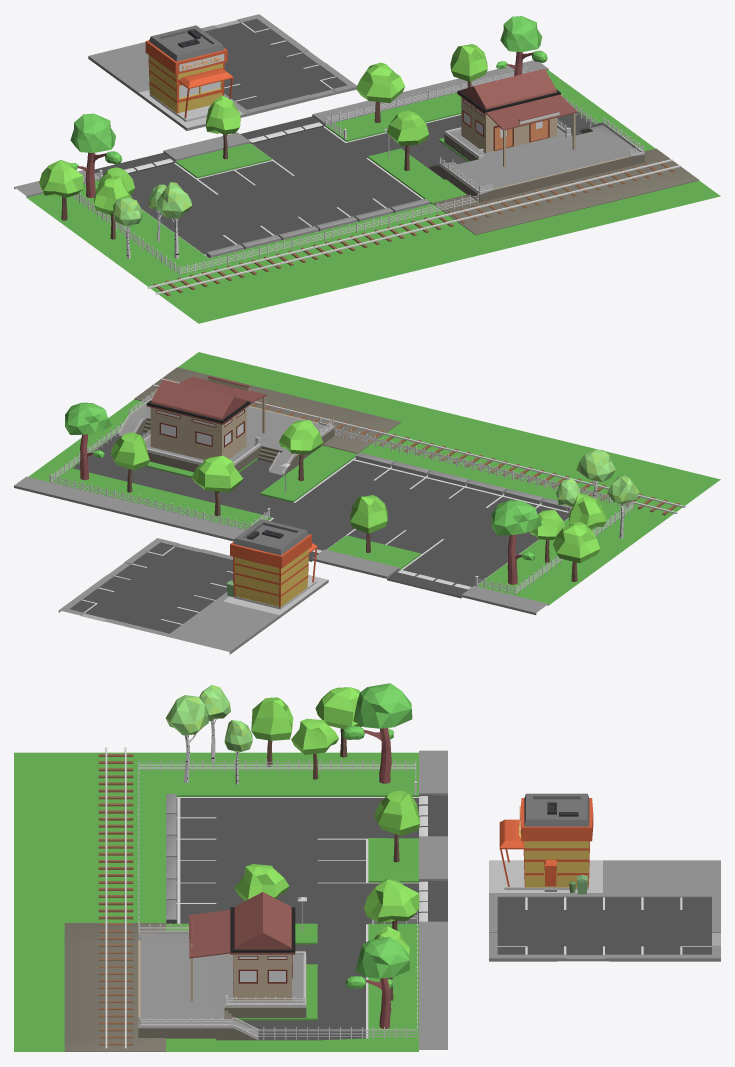
The model's file is LowPolyTrainStation.fbx.
The picture shows the model from 3 angles, top to bottom: view 1: azimuth 30°, elevation 25°; view 2: azimuth 150°, elevation 25°; view 3: azimuth 270°, elevation 25°; orthographic projection. The views are drawn at different scales.
Visible parts, largest first — view 1: World.Trainstation.001, TrainStation.001, World.Supermarket.003, Kiosk.001, TrainRails.001, Träd.003, Träd.004, TrädStam1.009, TrädStam1.030, TrädKrona.004, TrädStam1.031, TrädStam1.003 (+3 smaller); view 2: World.Trainstation.001, World.Supermarket.003, TrainStation.001, Kiosk.001, TrainRails.001, Träd.003, Träd.004, TrädStam1.030, TrädStam1.009, TrädStam1.031, TrädKrona.004, TrädStam1.003 (+5 smaller); view 3: World.Trainstation.001, World.Supermarket.003, TrainStation.001, Kiosk.001, TrainRails.001, Träd.003, Träd.004, TrädStam1.009, TrädStam1.031, TrädStam1.018, TrädStam1.030, TrädStamBjörk.062 (+4 smaller).
Boxes of the visible parts, x1,y1,x2,y2 form: World.Trainstation.001: (14,60,720,323); TrainStation.001: (428,69,644,202); World.Supermarket.003: (88,14,356,130); Kiosk.001: (145,25,233,121); TrainRails.001: (147,159,680,295); Träd.003: (70,113,122,197); Träd.004: (496,16,547,75); TrädStam1.009: (356,62,404,122); TrädStam1.030: (39,160,83,220); TrädKrona.004: (386,110,428,170); TrädStam1.031: (205,95,240,159); TrädStam1.003: (450,44,487,87); World.Trainstation.001: (14,352,720,615); World.Supermarket.003: (58,538,328,654); TrainStation.001: (118,375,334,475); Kiosk.001: (230,519,317,609); TrainRails.001: (152,378,685,515); Träd.003: (491,500,541,584); Träd.004: (65,402,111,480); TrädStam1.030: (553,522,600,581); TrädStam1.009: (191,455,243,516); TrädStam1.031: (350,495,387,552); TrädKrona.004: (279,420,323,481); TrädStam1.003: (111,432,149,492); World.Trainstation.001: (14,750,447,1051); World.Supermarket.003: (489,860,720,961); TrainStation.001: (138,892,306,1040); Kiosk.001: (499,793,593,891); TrainRails.001: (98,747,133,1048); Träd.003: (342,683,412,783); Träd.004: (345,937,409,1028); TrädStam1.009: (364,879,419,930); TrädStam1.031: (375,790,420,862); TrädStam1.018: (251,697,293,766); TrädStam1.030: (315,687,362,757); TrädStamBjörk.062: (166,695,208,782).
Bounding box in the file's own units: 7649 × 1130 × 7387.
